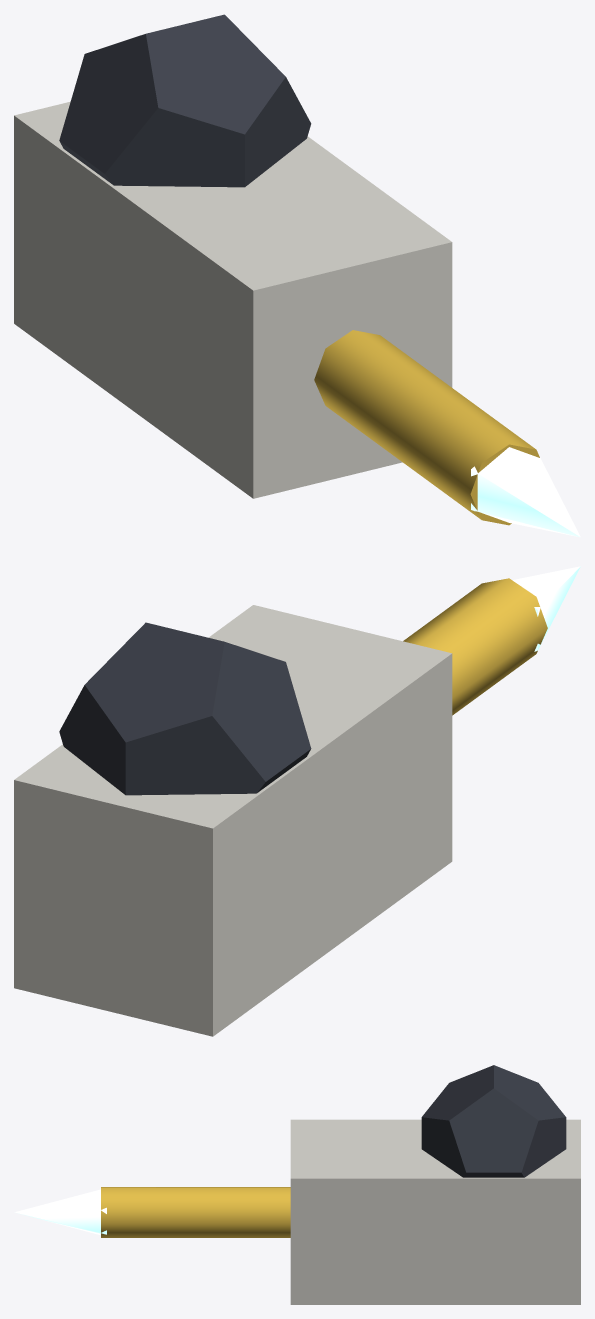
The model's file is wpn_gaia_pile.glb.
3 views of the same model, one above another, from view 1: azimuth 30°, elevation 25°; view 2: azimuth 150°, elevation 25°; view 3: azimuth 270°, elevation 25° (orthographic). The views are drawn at different scales.
Parts seen in each view (by area): view 1: weapon, pile; view 2: weapon, pile; view 3: weapon, pile.
Part boxes in pixels (left/top/right/bottom): weapon: left=14, top=14, right=452, bottom=498; pile: left=314, top=330, right=580, bottom=537; weapon: left=14, top=605, right=452, bottom=1036; pile: left=403, top=566, right=580, bottom=715; weapon: left=290, top=1065, right=580, bottom=1304; pile: left=14, top=1187, right=290, bottom=1237.
Bounding box in the file's own units: 0.3737 × 0.5668 × 1.46.
